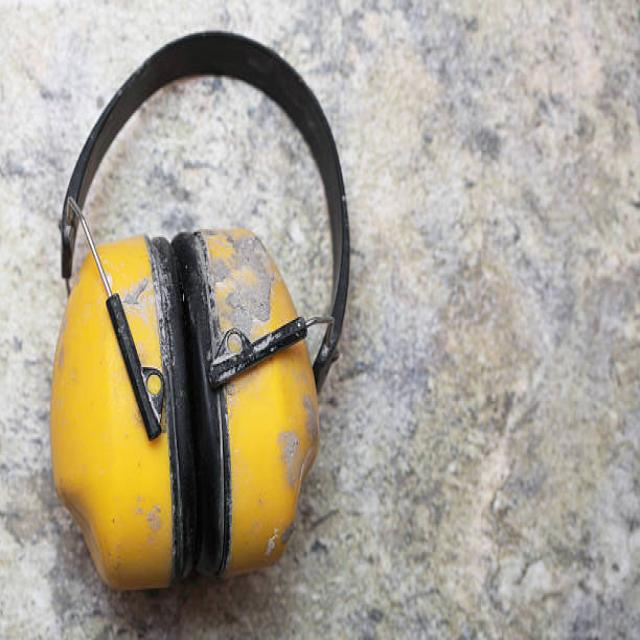Ear-protection: (24, 24, 361, 603)
